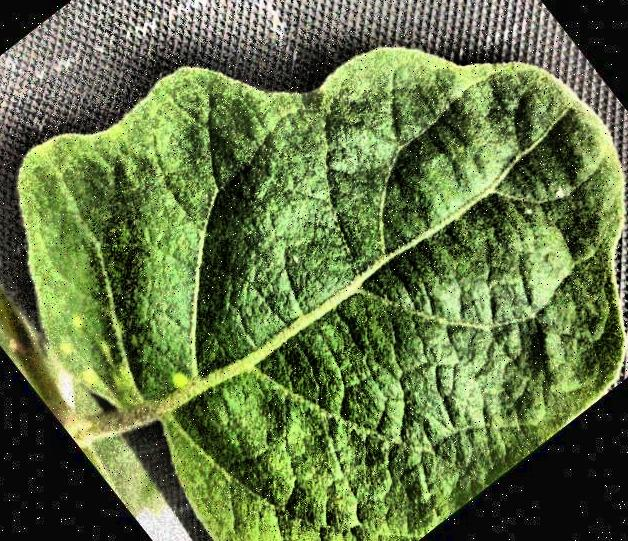HEALTHY: (0, 0, 628, 541)
